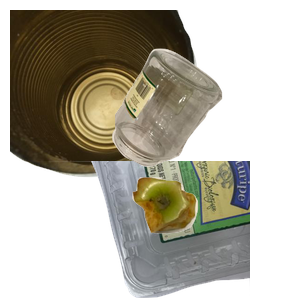glass: (110, 46, 300, 205)
metal: (10, 10, 200, 180)
plastic: (23, 161, 263, 300)
trash: (130, 175, 300, 300)
